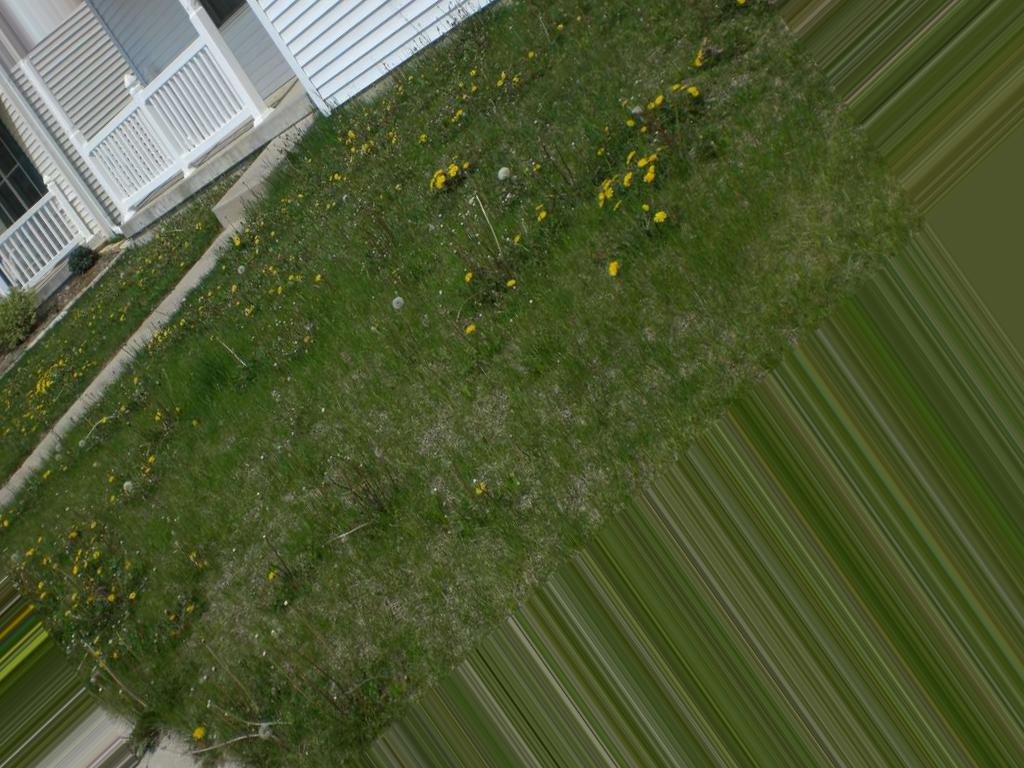patch: (421, 417, 496, 459), (436, 551, 490, 597), (246, 590, 311, 622), (567, 486, 598, 503)
